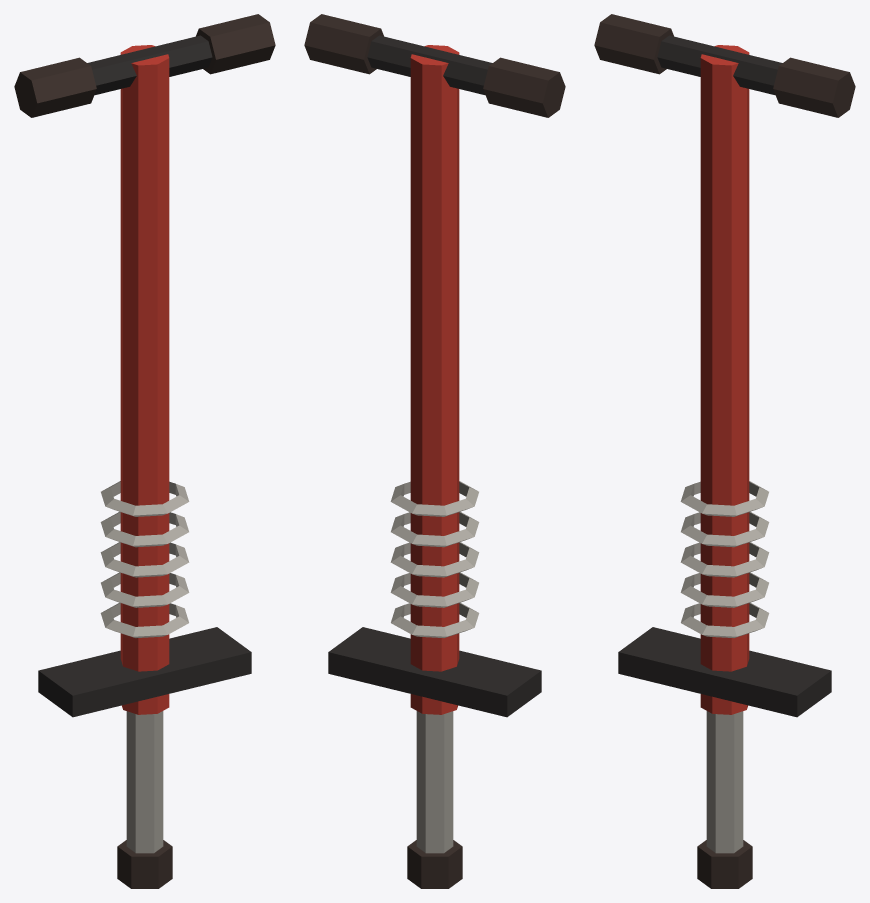
File: PogoStick.fbx
3 renders of one model, left to right at view 1: azimuth 30°, elevation 25°; view 2: azimuth 150°, elevation 25°; view 3: azimuth 330°, elevation 25°, orthographic.
Visible parts, largest first — view 1: PogoStick; view 2: PogoStick; view 3: PogoStick.
Boxes of the visible parts, x1,y1,x2,y2 form: PogoStick: [14, 14, 275, 888]; PogoStick: [304, 14, 565, 888]; PogoStick: [594, 14, 855, 888].
Size of the model in its own units: 1.2 by 4 by 0.4.
